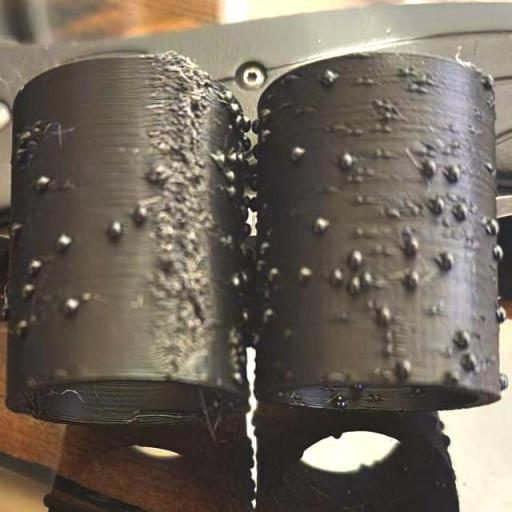blobs: (52, 226, 76, 255), (419, 150, 443, 179), (11, 314, 37, 340), (290, 261, 318, 284), (106, 217, 128, 246), (402, 231, 424, 260), (334, 145, 358, 171), (451, 198, 475, 224), (485, 213, 506, 242), (32, 166, 54, 193), (132, 196, 153, 224), (62, 290, 82, 318), (307, 212, 332, 234), (374, 304, 399, 326), (454, 327, 476, 351), (320, 64, 340, 90), (323, 264, 346, 286), (445, 162, 465, 187), (437, 248, 456, 274), (466, 346, 484, 372), (488, 239, 506, 263), (405, 271, 421, 297), (20, 278, 38, 301), (291, 138, 309, 161), (227, 268, 243, 292), (397, 353, 415, 374), (494, 300, 508, 327), (258, 102, 274, 124), (348, 246, 363, 268), (24, 256, 42, 274), (258, 238, 276, 256), (220, 170, 238, 187), (266, 266, 284, 283), (258, 126, 275, 144), (359, 271, 376, 288), (226, 184, 242, 202), (348, 276, 364, 294), (497, 372, 512, 390), (370, 95, 386, 111), (481, 158, 496, 174), (230, 96, 244, 113), (401, 66, 415, 78), (384, 106, 394, 122)
